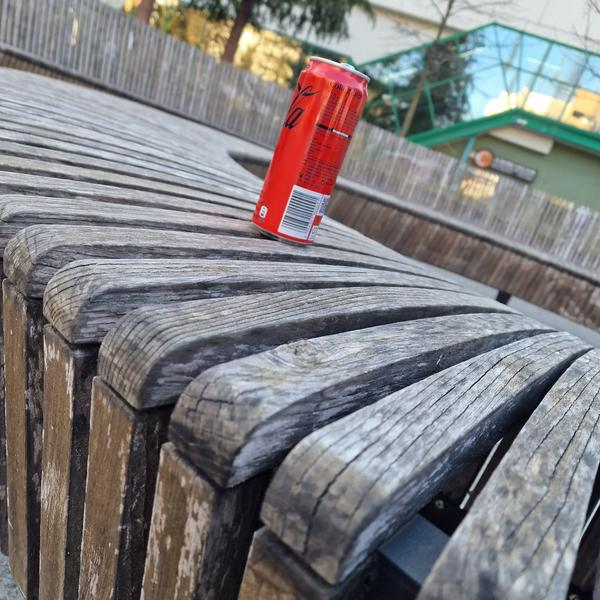can: (248, 50, 374, 254)
